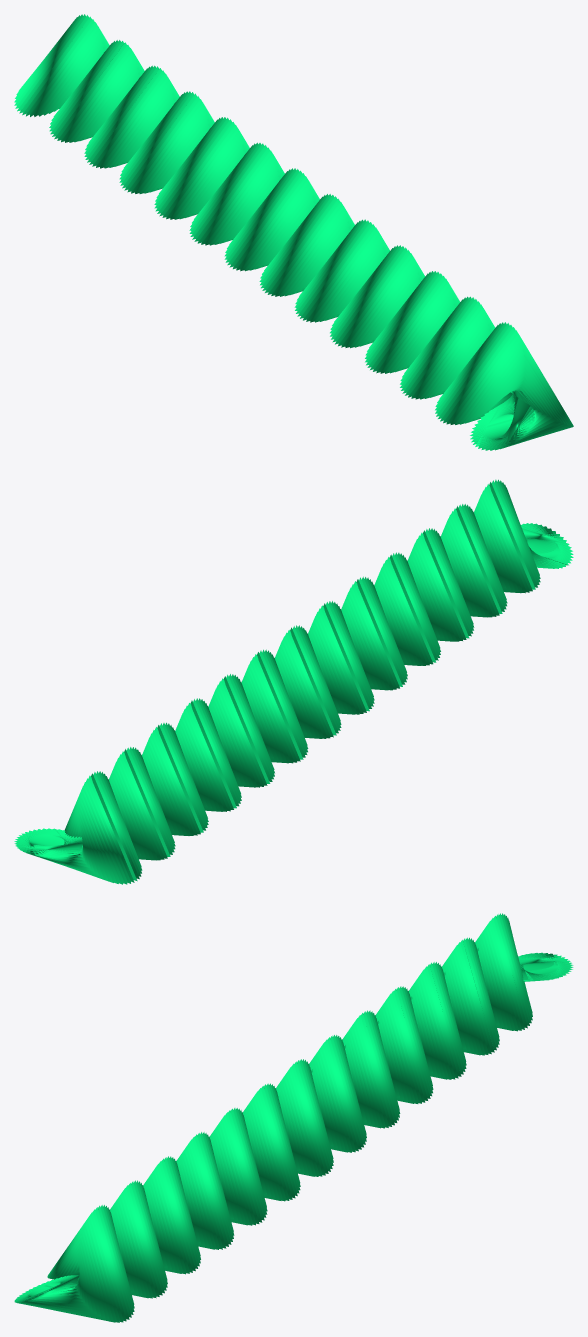
File: dna_helix_detailed_ultra-hd_fallback_1767369799642.glb
3 views of the same model, one above another, from view 1: azimuth 30°, elevation 25°; view 2: azimuth 150°, elevation 25°; view 3: azimuth 330°, elevation 25° (orthographic). The views are drawn at different scales.
Parts seen in each view (by area): view 1: MathShape; view 2: MathShape; view 3: MathShape.
Part boxes in pixels (box(x1,y1,x2,y2)): MathShape: box(14, 14, 573, 450); MathShape: box(14, 479, 573, 884); MathShape: box(14, 913, 573, 1322).
Bounding box in the file's own units: 3.82 × 3.14 × 28.57.
